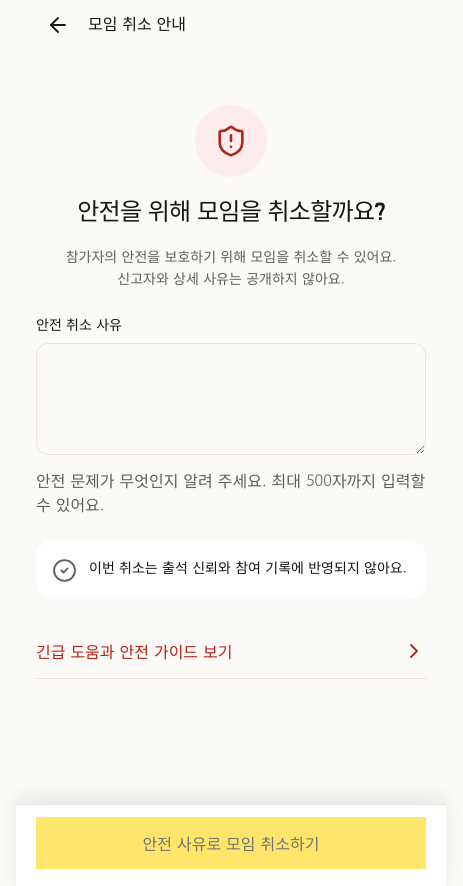
SafetyCancelPage API behavior › ignores a stale account completion and clears the action state
Type "안전 우려" into the text box labelled "안전 취소 사유".
click(231, 399); type("안전 우려")  # box [36,343,426,455]
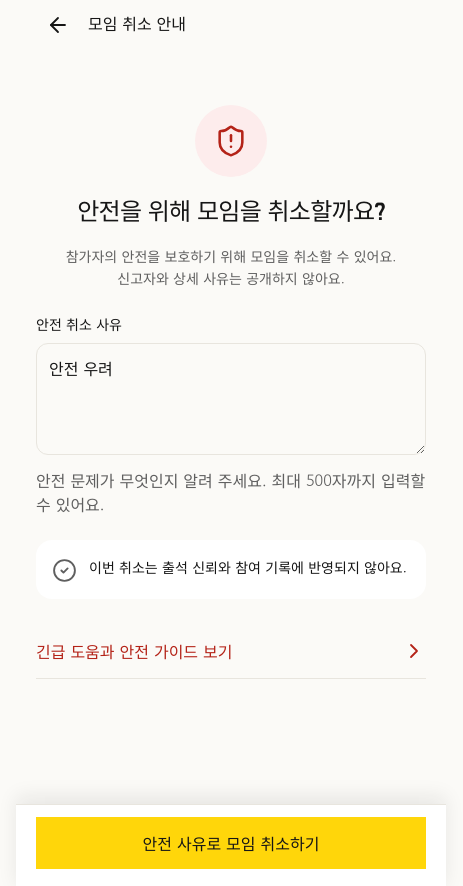
Expected: the button "안전 사유로 모임 취소하기" is enabled
Click the button "안전 사유로 모임 취소하기".
click(231, 843)  # box [36,817,426,869]
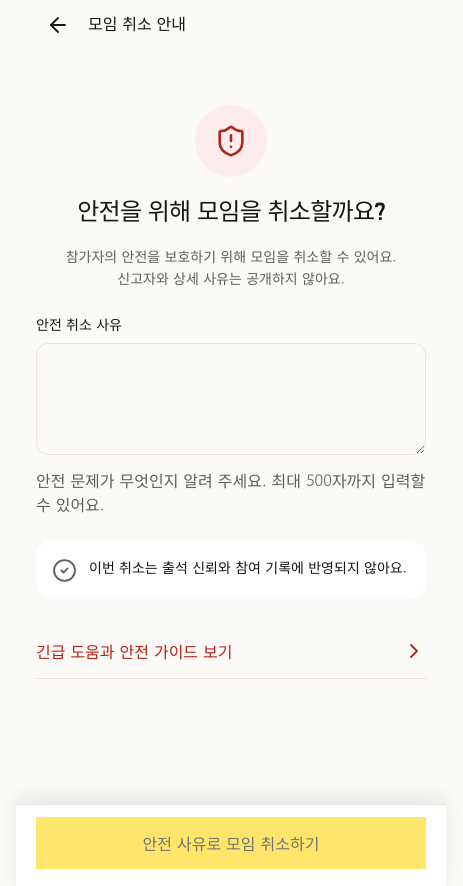
Expected: the text box labelled "안전 취소 사유" is empty, [36,343,426,455]
